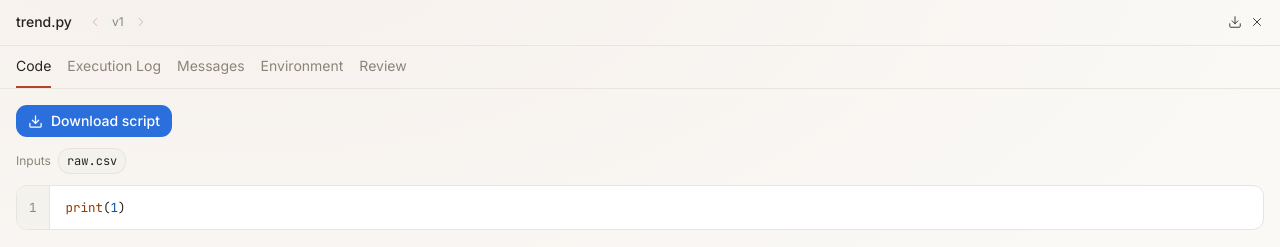
ArtifactInspector strings (i18n) › renders the empty and not-yet-reviewed states for each tab in English
This screenshot has width=1280, height=247.
Click the button "Execution Log" at (114, 67), box [67,46,161,88]
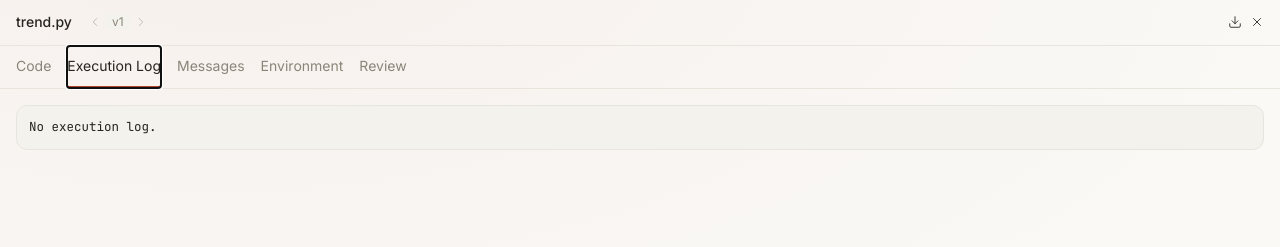
Expected: the text "No execution log." is shown, [16,105,1264,150]
Click the button "Messages" at (211, 67), box [177,46,245,88]
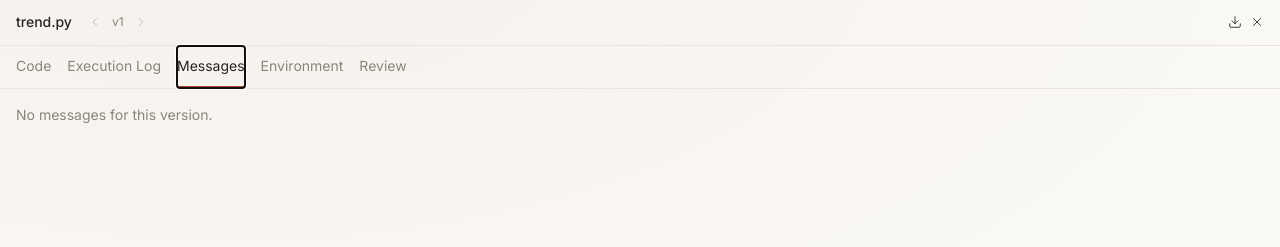
Expected: the list item "No messages for this version." is shown, [16,106,212,123]
Click the button "Environment" at (302, 67), box [261,46,343,88]
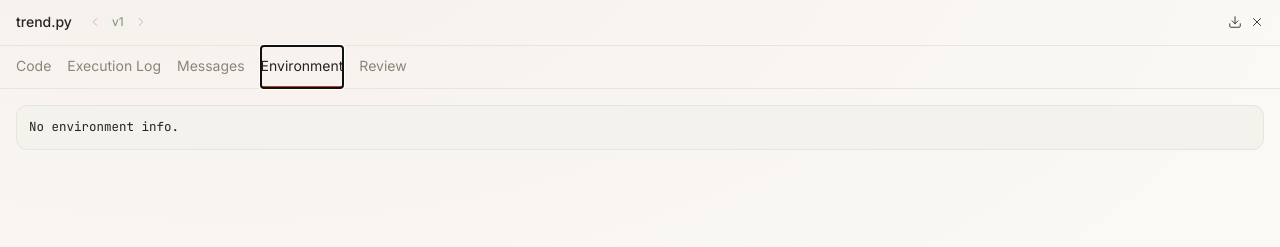
Expected: the text "No environment info." is shown, [16,105,1264,150]
Click the button "Review" at (383, 67), box [359,46,407,88]
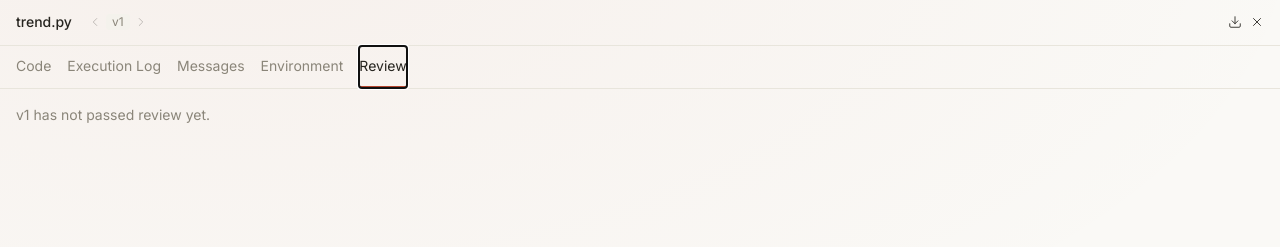
Expected: the text "v1 has not passed review yet." is shown, [16,106,210,123]
